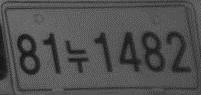1: (39, 31, 61, 74), (92, 31, 114, 73)
2: (166, 30, 192, 74)
4: (117, 30, 143, 73)
8: (15, 33, 41, 75), (141, 30, 166, 71)
누: (64, 38, 89, 72)
